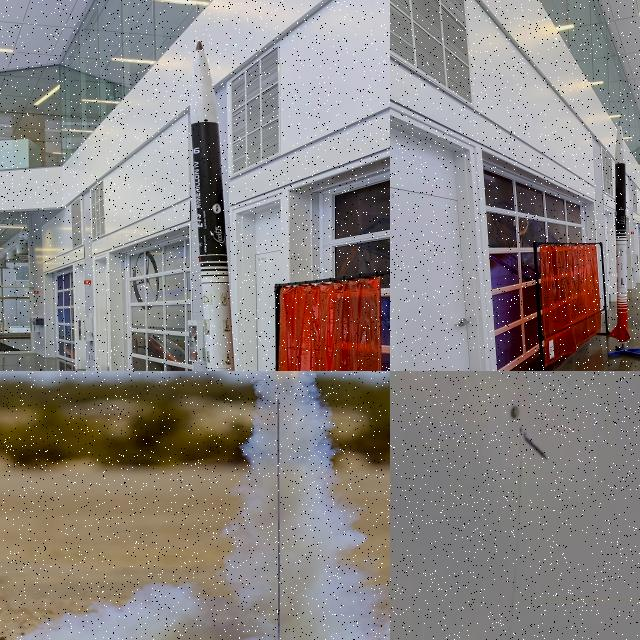Rocket: (190, 41, 235, 371), (610, 121, 630, 343)
